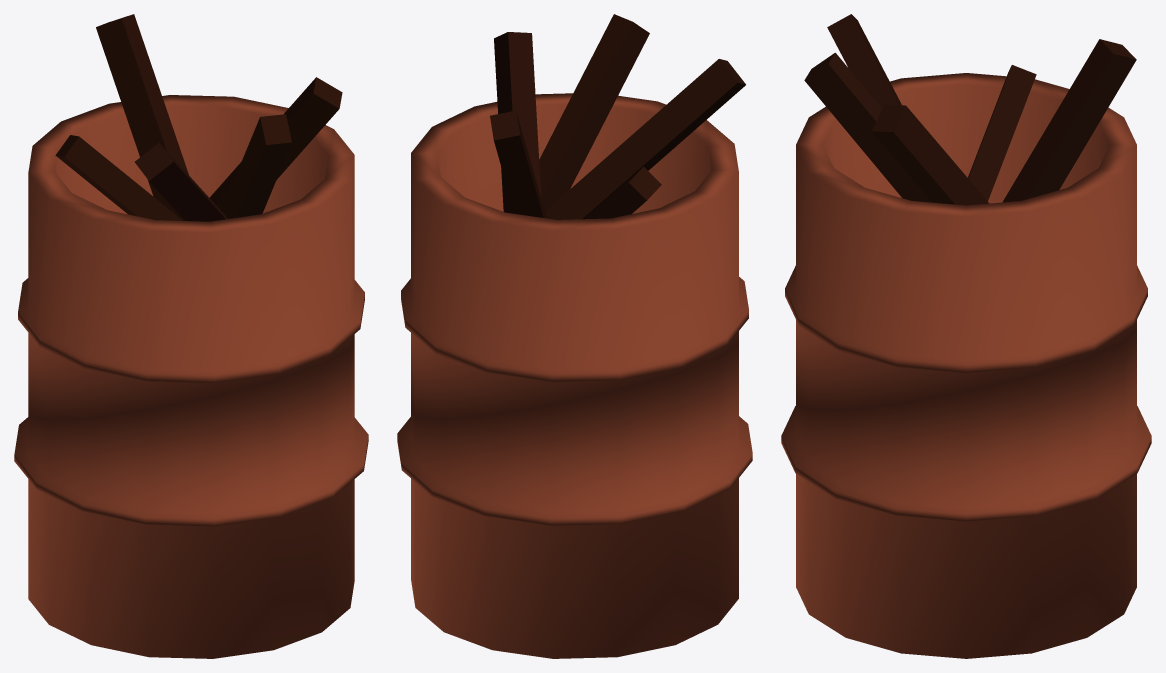
Rendered from tryingoutfire.fbx.
The picture shows the model from 3 angles, left to right: view 1: azimuth 30°, elevation 25°; view 2: azimuth 150°, elevation 25°; view 3: azimuth 270°, elevation 25°; orthographic projection. The views are drawn at different scales.
Visible parts, largest first — view 1: Cylinder, Cube.003, Cube.004, Cube, Cube.001, Cube.002; view 2: Cylinder, Cube.002, Cube.004, Cube.001, Cube.003, Cube; view 3: Cylinder, Cube.003, Cube.004, Cube.001, Cube, Cube.002.
Boxes of the visible parts, x1,y1,x2,y2 form: Cylinder: (14, 95, 368, 658); Cube.003: (96, 14, 188, 220); Cube.004: (223, 114, 291, 218); Cube: (55, 135, 182, 220); Cube.001: (209, 77, 342, 212); Cube.002: (135, 142, 227, 221); Cylinder: (397, 93, 752, 658); Cube.002: (545, 59, 745, 219); Cube.004: (539, 14, 649, 212); Cube.001: (494, 32, 541, 213); Cube.003: (490, 110, 546, 218); Cube: (584, 166, 661, 219); Cylinder: (781, 73, 1151, 658); Cube.003: (1002, 39, 1136, 202); Cube.004: (804, 52, 932, 202); Cube.001: (872, 104, 989, 205); Cube: (968, 65, 1036, 201); Cube.002: (827, 14, 901, 108).
Bounding box in the file's own units: 152 × 247 × 152.
